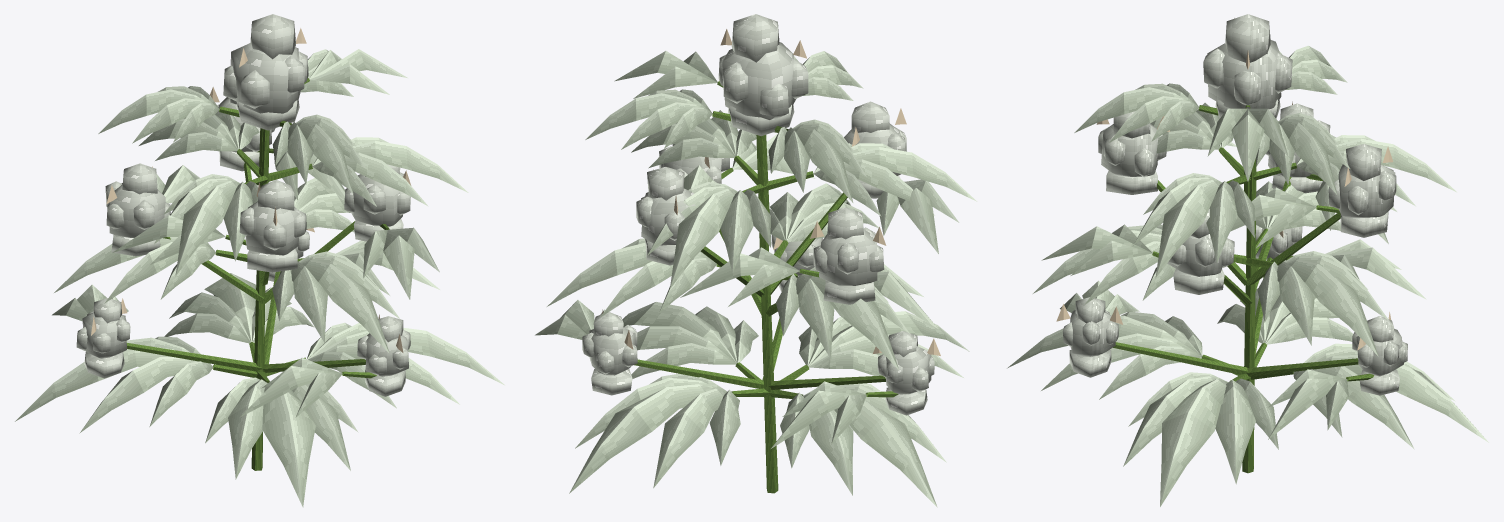
Rendered from hybrid_2.obj.
The picture shows the model from 3 angles, left to right: view 1: azimuth 30°, elevation 25°; view 2: azimuth 150°, elevation 25°; view 3: azimuth 270°, elevation 25°; orthographic projection. The views are drawn at different scales.
Visible parts, largest first — view 1: plant; view 2: plant; view 3: plant.
Part boxes in pixels (left/top/right/bottom): plant: left=15, top=14, right=504, bottom=507; plant: left=535, top=14, right=977, bottom=507; plant: left=1007, top=14, right=1488, bottom=506.
Size of the model in its own units: 0.8396 by 0.8911 by 0.8396.
